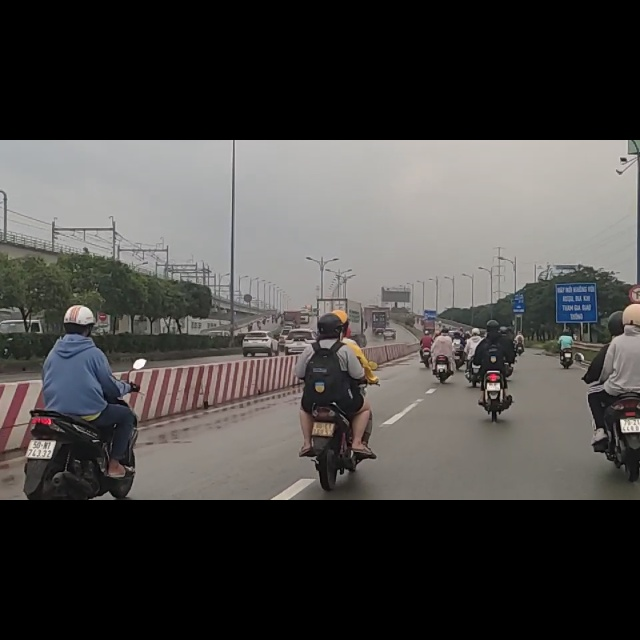bien_chi_dan: (629, 257, 640, 289)
